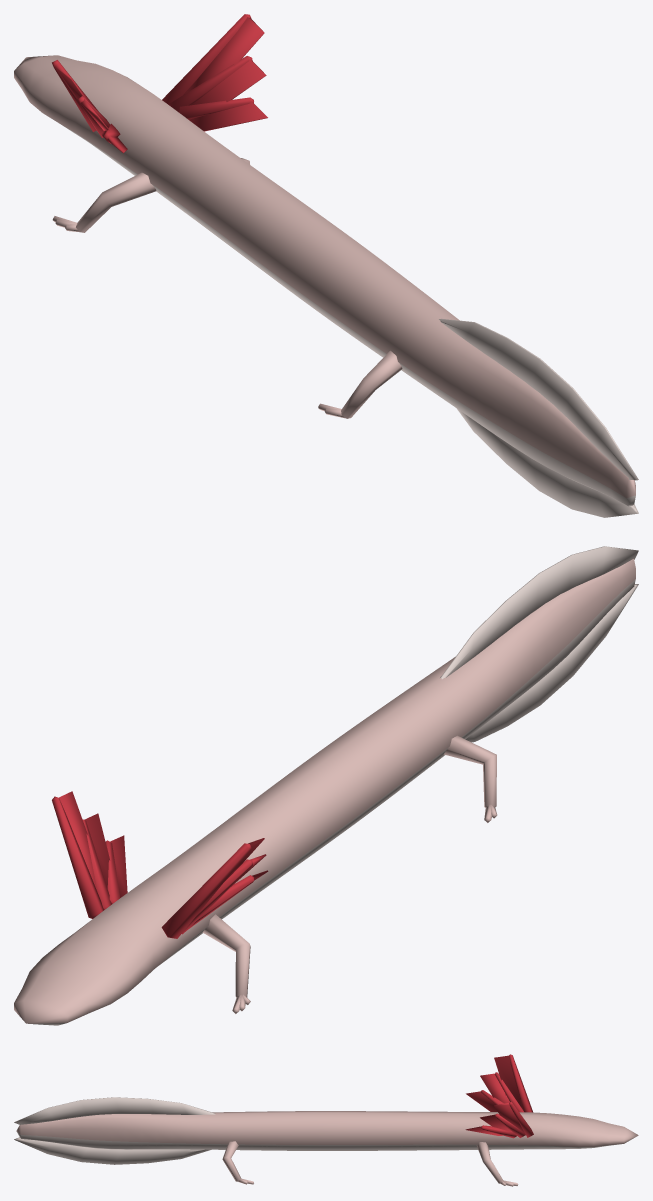
File: olm.glb
3 renders of one model, top to bottom at view 1: azimuth 30°, elevation 25°; view 2: azimuth 150°, elevation 25°; view 3: azimuth 270°, elevation 25°, orthographic. The views are drawn at different scales.
Visible parts, largest first — view 1: olm; view 2: olm; view 3: olm.
Boxes of the visible parts, left/top/right/bottom form: olm: left=14, top=14, right=638, bottom=517; olm: left=14, top=546, right=638, bottom=1025; olm: left=14, top=1054, right=638, bottom=1186.
Size of the model in its own units: 0.4937 by 0.4033 by 2.64.
